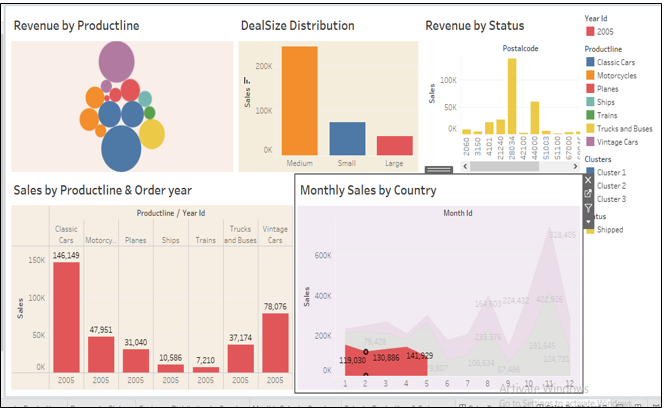

Layout of this report page (visuals, bound fields, positions):
{"tool":"tableau","page":{"name":"Sales Dashboard 2","canvas":[1000,1000],"units":"permille","ordinal":1},"visuals":[{"type":"worksheet","title":"Revenue by Productline","mark":"Circle","box":[6.9,13.5,291.6,445.9]},{"type":"worksheet","title":"DealSize Distribution","mark":"Automatic","rows":["SALES"],"cols":["DEALSIZE"],"box":[298.5,13.5,217.2,445.9]},{"type":"worksheet","title":"Revenue by Status","mark":"Automatic","rows":["SALES"],"cols":["POSTALCODE"],"box":[515.7,13.5,338.9,445.9]},{"type":"legend","title":"Revenue by Status","param":"[federated.1jkcy2u0u6a9jw157zj5j0occhv6].[none:STATUS:nk]","box":[854.5,13.5,138.5,111.5]},{"type":"legend","title":"Sales by Productline  & Order year","param":"[federated.1jkcy2u0u6a9jw157zj5j0occhv6].[none:YEAR_ID:ok]","box":[854.5,125,138.5,77.7]},{"type":"filter","title":"Monthly Sales by Country","param":"[federated.1jkcy2u0u6a9jw157zj5j0occhv6].[none:COUNTRY:nk]","box":[854.5,202.7,138.5,228.1]},{"type":"legend","title":"DealSize Distribution","param":"[federated.1jkcy2u0u6a9jw157zj5j0occhv6].[none:AdhocCluster:1:ok]","box":[854.5,430.7,138.5,145.3]},{"type":"worksheet","title":"Sales by Productline  & Order year","mark":"Automatic","rows":["SALES"],"cols":["PRODUCTLINE","YEAR_ID"],"box":[6.9,459.5,423.8,527]},{"type":"worksheet","title":"Monthly Sales by Country","mark":"Area","rows":["SALES"],"cols":["MONTH_ID"],"box":[430.7,459.5,423.8,527]},{"type":"filter","title":"Revenue by Productline","param":"[federated.1jkcy2u0u6a9jw157zj5j0occhv6].[none:YEAR_ID:ok]","box":[854.5,576,138.5,182.4]},{"type":"legend","title":"Revenue by Productline","param":"[federated.1jkcy2u0u6a9jw157zj5j0occhv6].[none:PRODUCTLINE:nk]","box":[854.5,758.4,138.5,228.1]}]}

Visuals, with their boxes on the dashboard's canvas, which has no fixed pixel size, in thousandths of its width and height (x1, y1, x2, y2). These are canvas units, not pixel positions in the 665x408 screenshot, which may show the page scaled, cropped or inside an application window:
"Revenue by Productline" worksheet (Circle marks): left=7, top=14, right=298, bottom=459
"DealSize Distribution" worksheet: left=298, top=14, right=516, bottom=459
"Revenue by Status" worksheet: left=516, top=14, right=855, bottom=459
"Revenue by Status" legend: left=854, top=14, right=993, bottom=125
"Sales by Productline  & Order year" legend: left=854, top=125, right=993, bottom=203
"Monthly Sales by Country" filter: left=854, top=203, right=993, bottom=431
"DealSize Distribution" legend: left=854, top=431, right=993, bottom=576
"Sales by Productline  & Order year" worksheet: left=7, top=460, right=431, bottom=986
"Monthly Sales by Country" worksheet (Area marks): left=431, top=460, right=854, bottom=986
"Revenue by Productline" filter: left=854, top=576, right=993, bottom=758
"Revenue by Productline" legend: left=854, top=758, right=993, bottom=986
